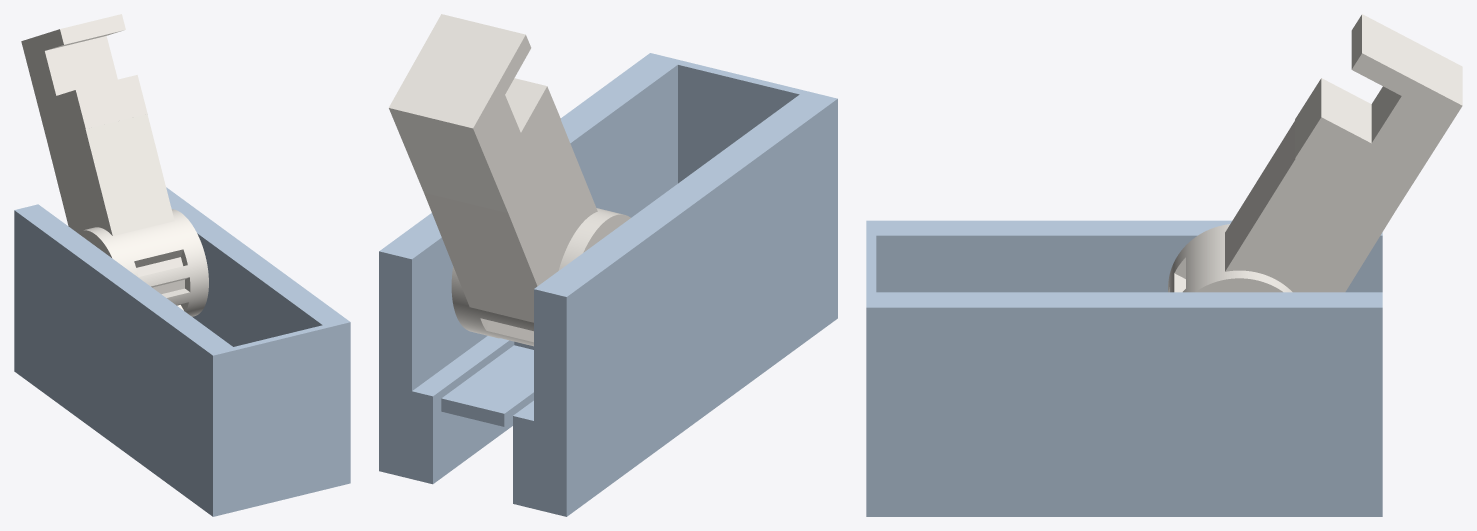
The picture shows the model from 3 angles, left to right: view 1: azimuth 30°, elevation 25°; view 2: azimuth 150°, elevation 25°; view 3: azimuth 270°, elevation 25°; orthographic projection. The views are drawn at different scales.
Parts seen in each view (by area): view 1: connector, moving; view 2: connector, moving; view 3: connector, moving.
Boxes of the visible parts, bbox=[...] form: connector: bbox=[14, 187, 350, 516]; moving: bbox=[21, 14, 208, 316]; connector: bbox=[379, 53, 837, 516]; moving: bbox=[389, 14, 630, 346]; connector: bbox=[866, 220, 1382, 516]; moving: bbox=[1168, 14, 1462, 292].
Size of the model in its own units: 17.86 by 42.02 by 51.64.
